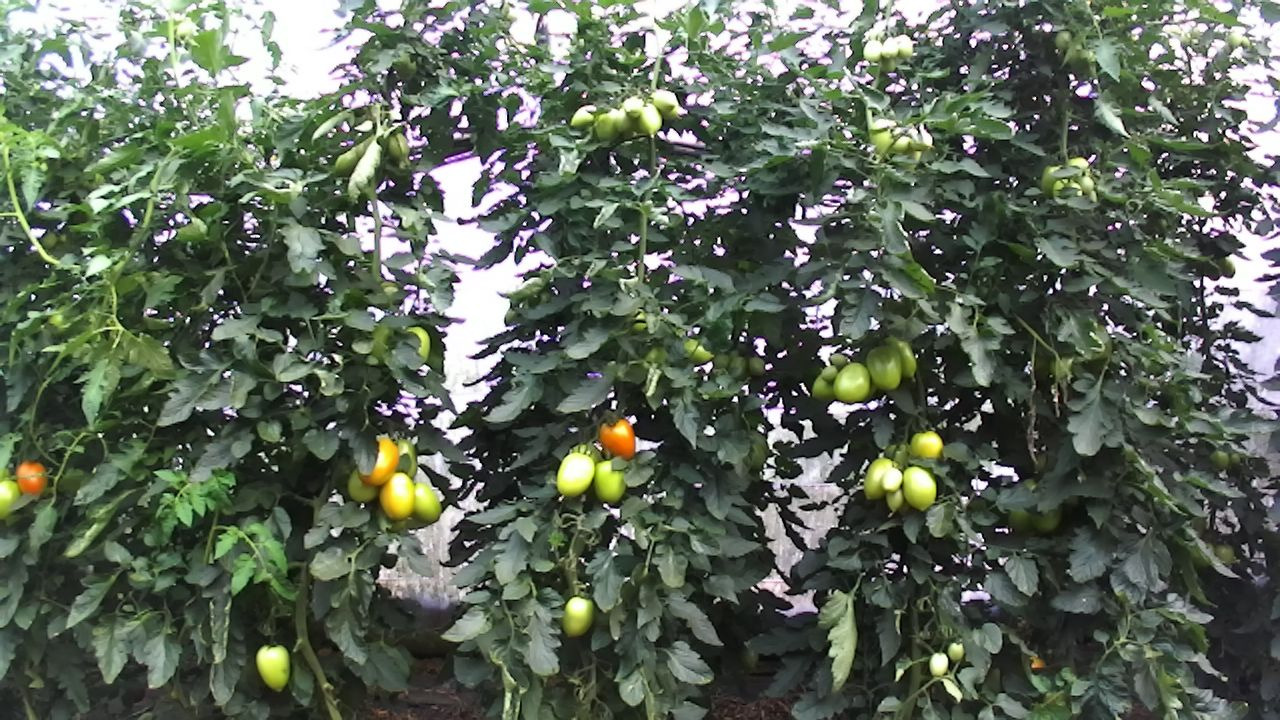tomato: (354, 432, 401, 489), (376, 469, 416, 523), (252, 641, 292, 695), (553, 450, 596, 500), (862, 341, 904, 392), (900, 461, 939, 513), (341, 465, 383, 508), (596, 416, 636, 461), (560, 591, 596, 640), (861, 453, 897, 502), (592, 458, 628, 507), (831, 361, 870, 404), (632, 100, 666, 139), (412, 480, 442, 523), (16, 458, 48, 497), (568, 101, 601, 131), (925, 647, 952, 681), (620, 92, 646, 121), (651, 88, 680, 114), (879, 465, 904, 493), (743, 351, 767, 380), (860, 37, 884, 64), (945, 636, 967, 663), (879, 35, 900, 60), (828, 351, 849, 369), (820, 363, 838, 383)
